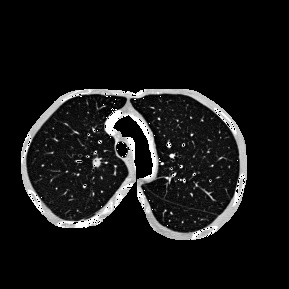PN: (92, 158, 100, 166)
